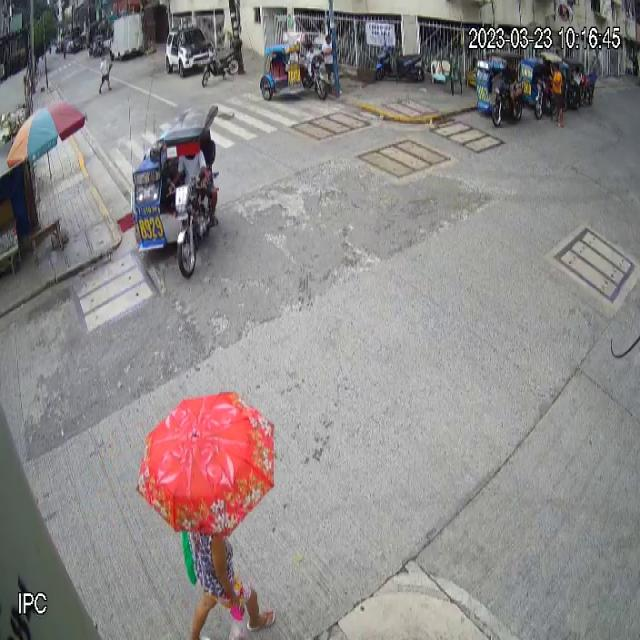Tricycle: (132, 104, 219, 279), (260, 32, 328, 101), (476, 52, 525, 127)
